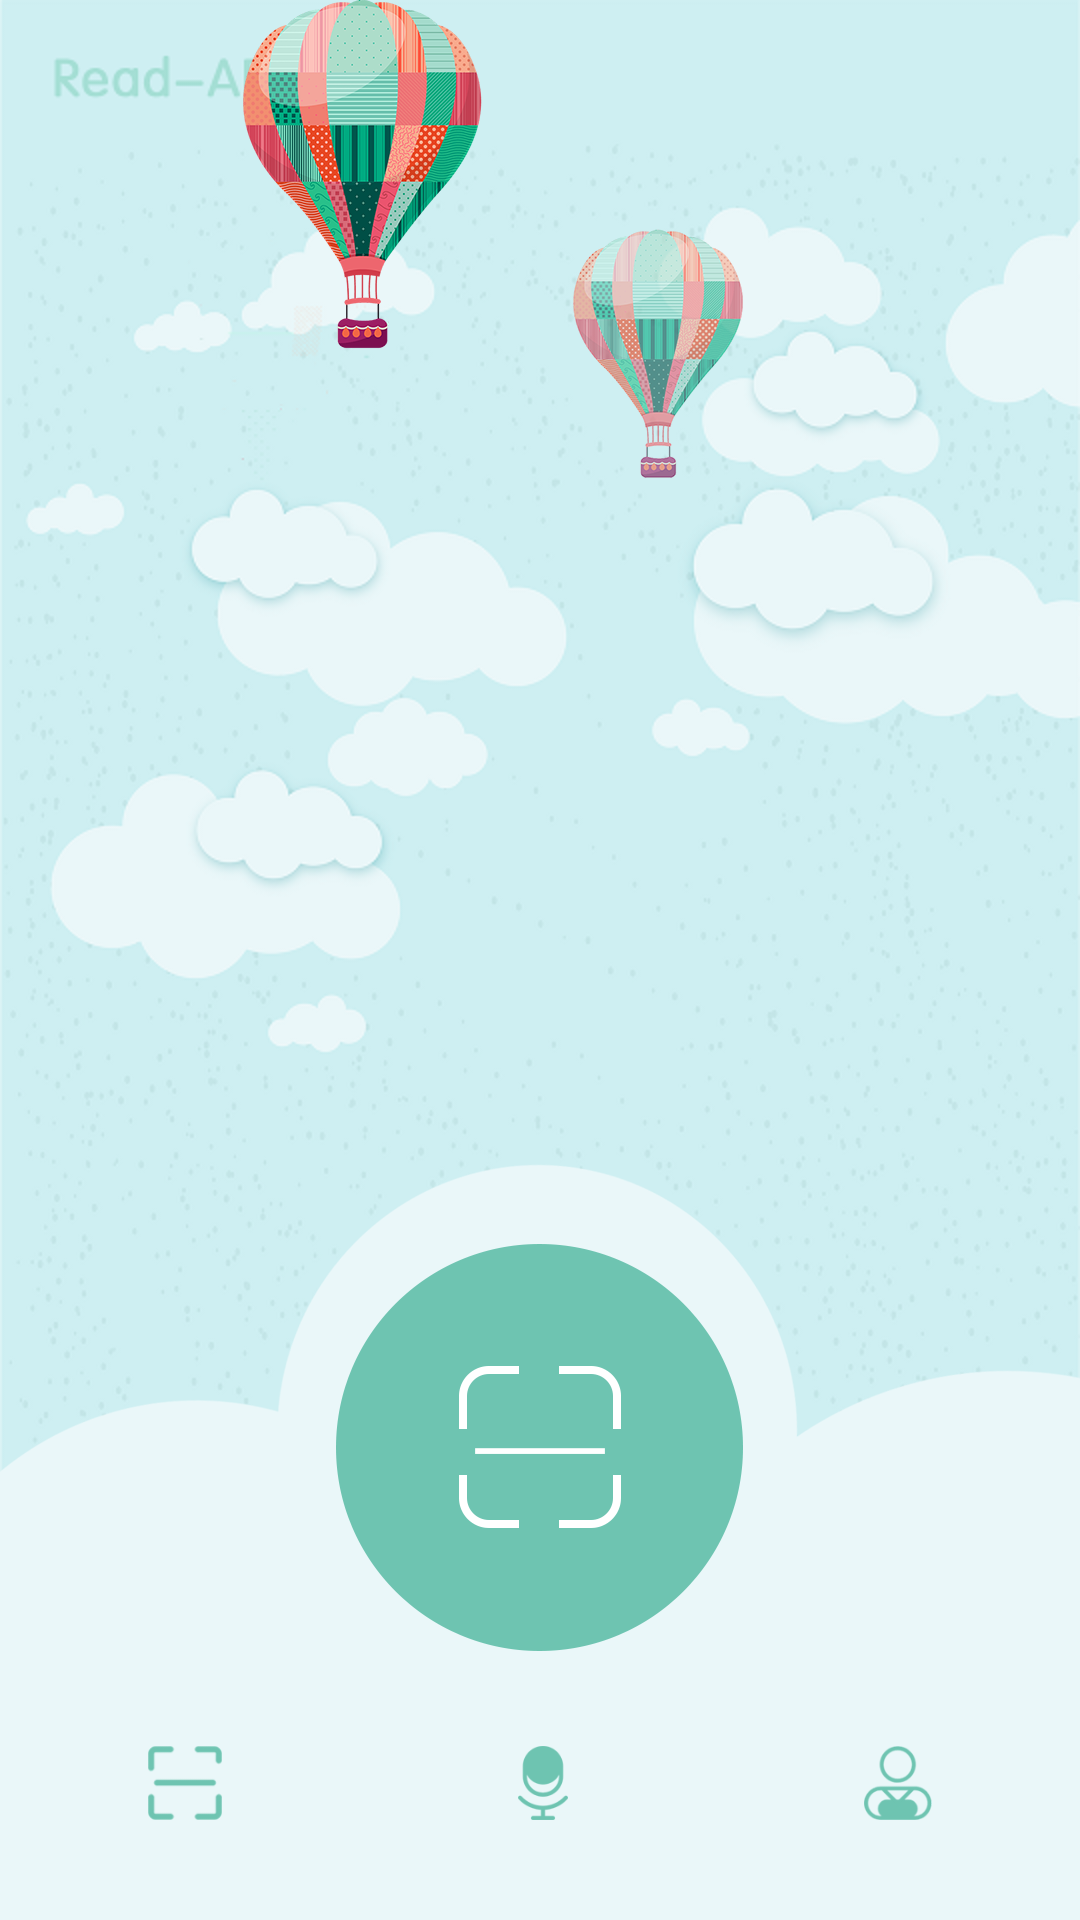

Icons on this 1080*1920 Android screen, each with the point to tap as (x,y):
scan: (185,1783)
user center: (898,1783)
voice: (543,1783)
